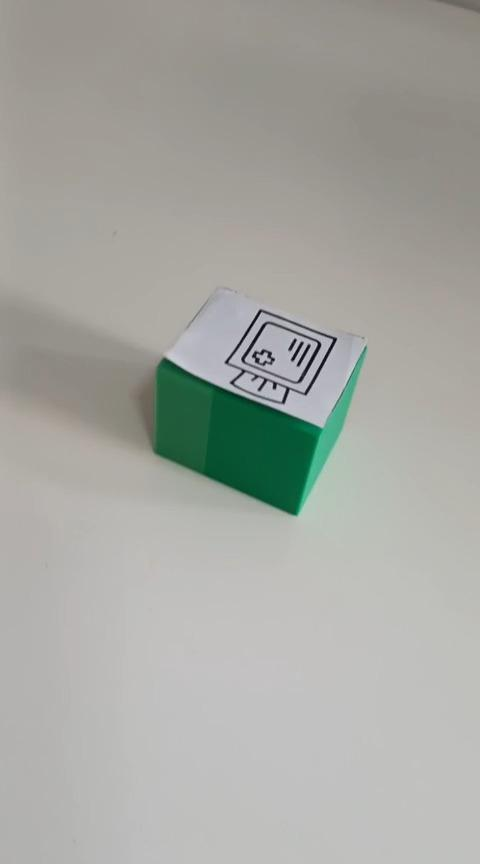Gauze: (151, 284, 368, 516)
